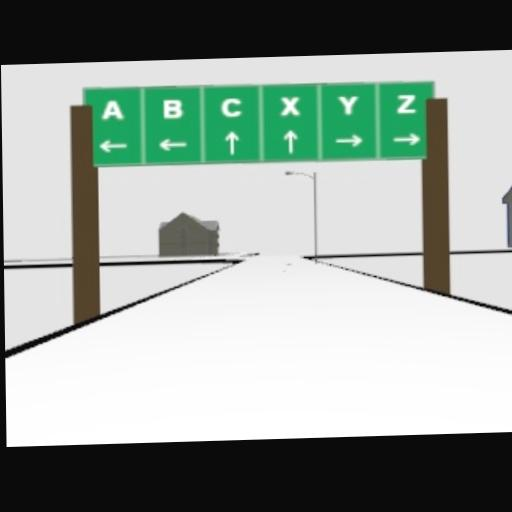A: (100, 99, 123, 121)
B: (162, 99, 181, 119)
C: (220, 97, 241, 117)
Left: (158, 137, 189, 151), (98, 139, 127, 153)
Right: (335, 134, 364, 148), (392, 132, 420, 146)
Straight: (224, 129, 239, 153), (283, 129, 298, 152)
X: (280, 96, 299, 115)
Y: (337, 95, 358, 115)
Z: (395, 93, 414, 113)
